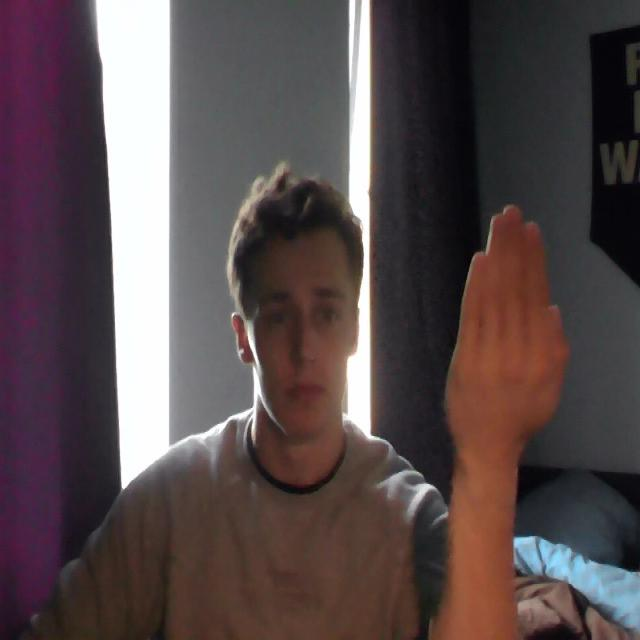forward: (434, 197, 570, 447)
